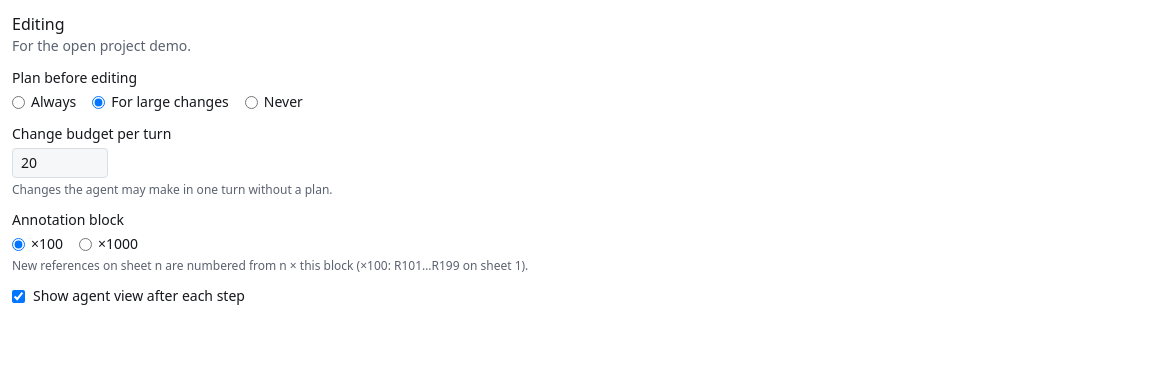
Test case: EditingSection › a failing save superseded by a newer one still shows its error and the confirmed state
Click the radio button labelled "Always" at (18, 102), box [12,96,25,108]
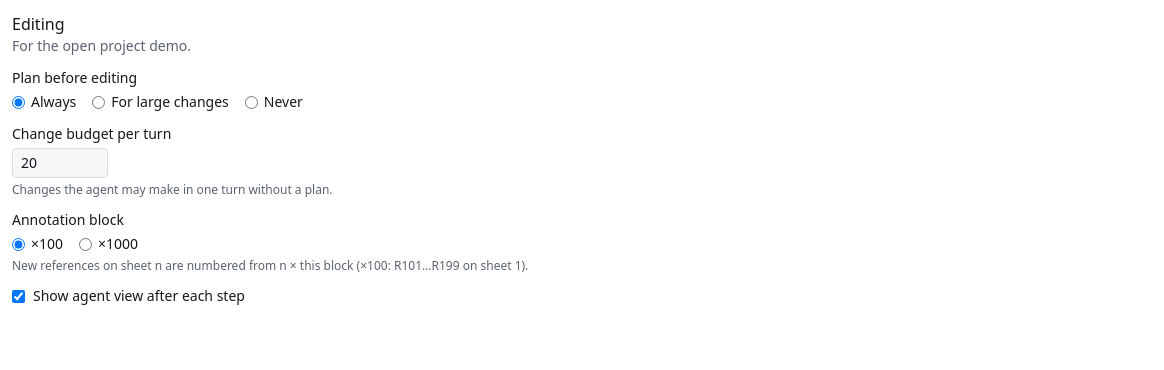
Click the radio button labelled "×1000" at (86, 244), box [79,238,92,250]
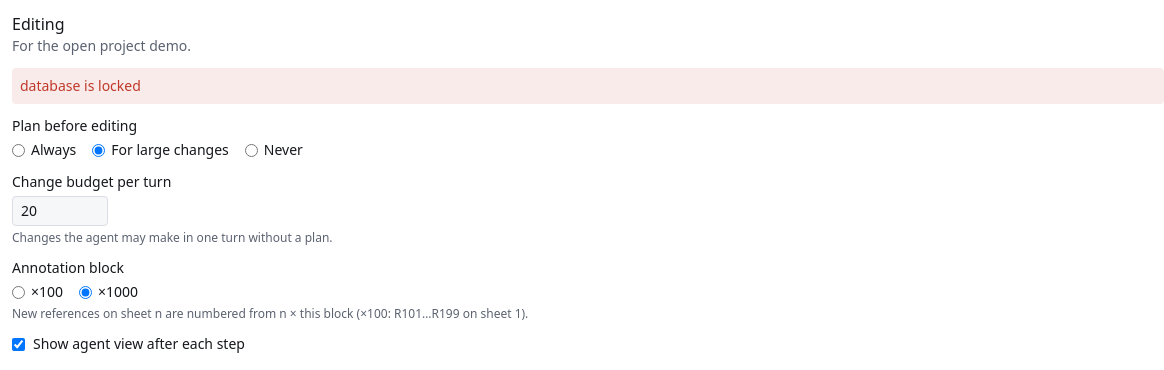
expect the radio button labelled "×1000" is checked: met, box [79,286,92,298]
expect the radio button labelled "For large changes" is checked: met, box [92,144,105,156]
expect the message reads "database is locked": met, box [20,76,141,95]
